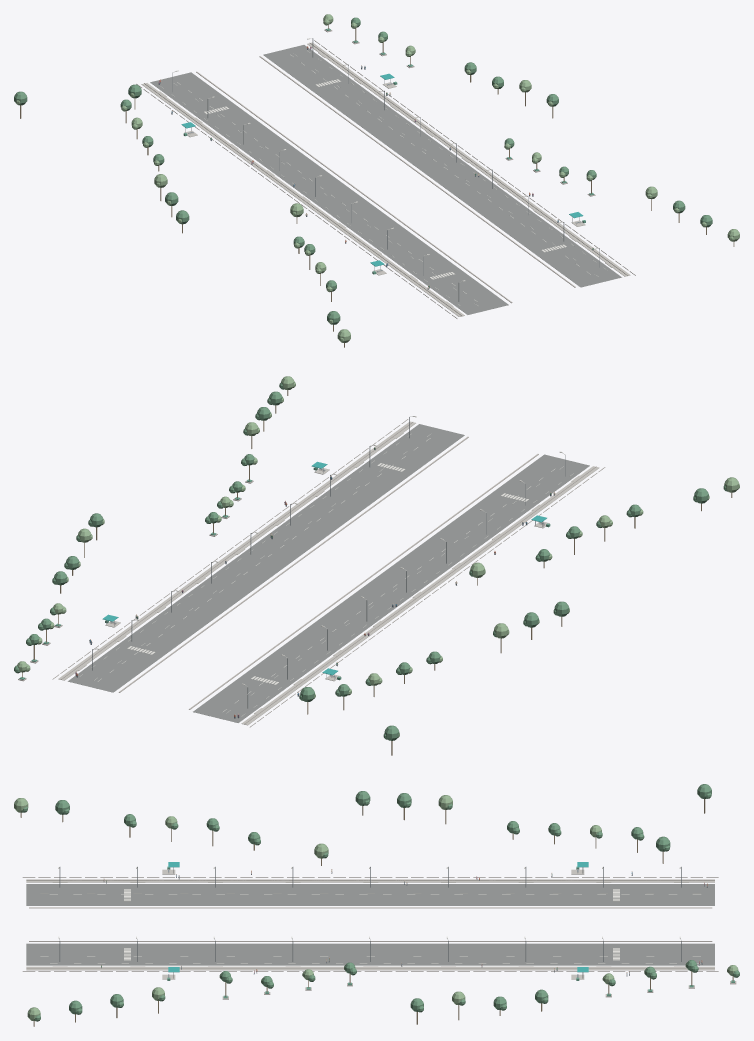
3 renders of one model, top to bottom at view 1: azimuth 30°, elevation 25°; view 2: azimuth 150°, elevation 25°; view 3: azimuth 270°, elevation 25°, orthographic. The views are drawn at different scales.
Visible parts, largest first — view 1: nearby/8; view 2: nearby/8; view 3: nearby/8.
Part boxes in pixels (<box>): nearby/8: <box>14,14,739,347</box>; nearby/8: <box>14,376,739,755</box>; nearby/8: <box>14,784,739,1026</box>.
Size of the model in its own units: 200 by 12.28 by 280.
